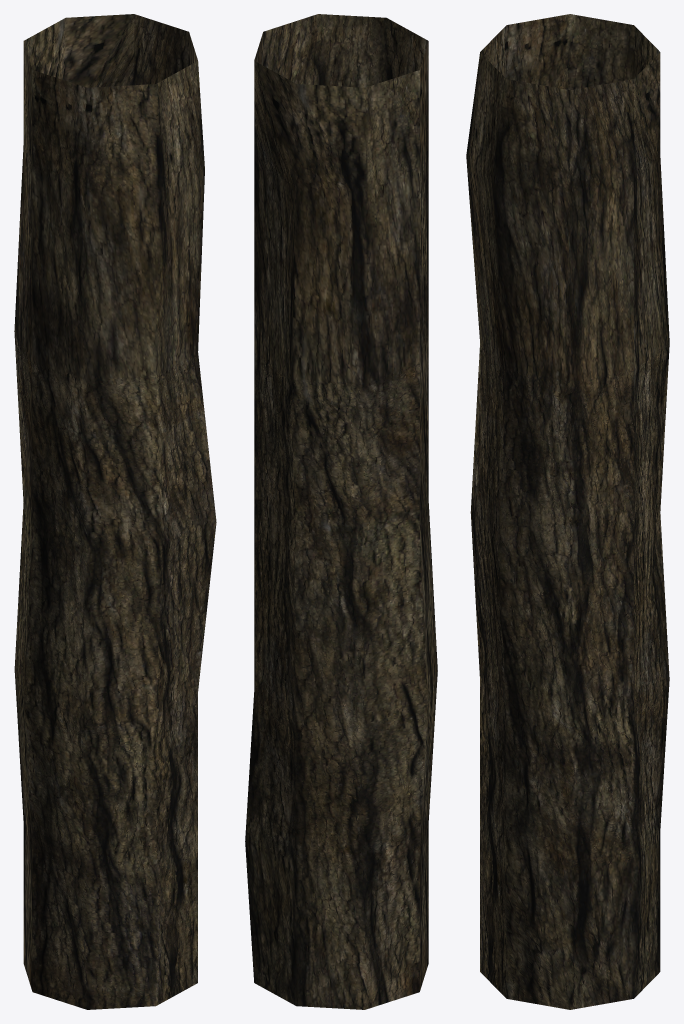
The model's file is tree_large_lowpoly_lod.dae.
The picture shows the model from 3 angles, left to right: view 1: azimuth 30°, elevation 25°; view 2: azimuth 150°, elevation 25°; view 3: azimuth 270°, elevation 25°; orthographic projection.
Visible parts, largest first — view 1: pCylinder4; view 2: pCylinder4; view 3: pCylinder4.
Part boxes in pixels (left/top/right/bottom): pCylinder4: left=14, top=14, right=216, bottom=1009; pCylinder4: left=245, top=14, right=437, bottom=1009; pCylinder4: left=466, top=14, right=669, bottom=1009.
Bounding box in the file's own units: 1.27 × 6.45 × 1.29.
